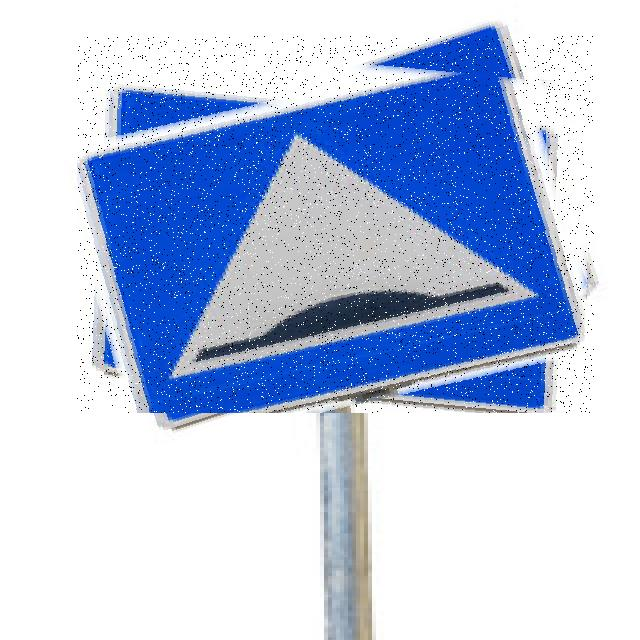hump: (77, 36, 594, 413)
